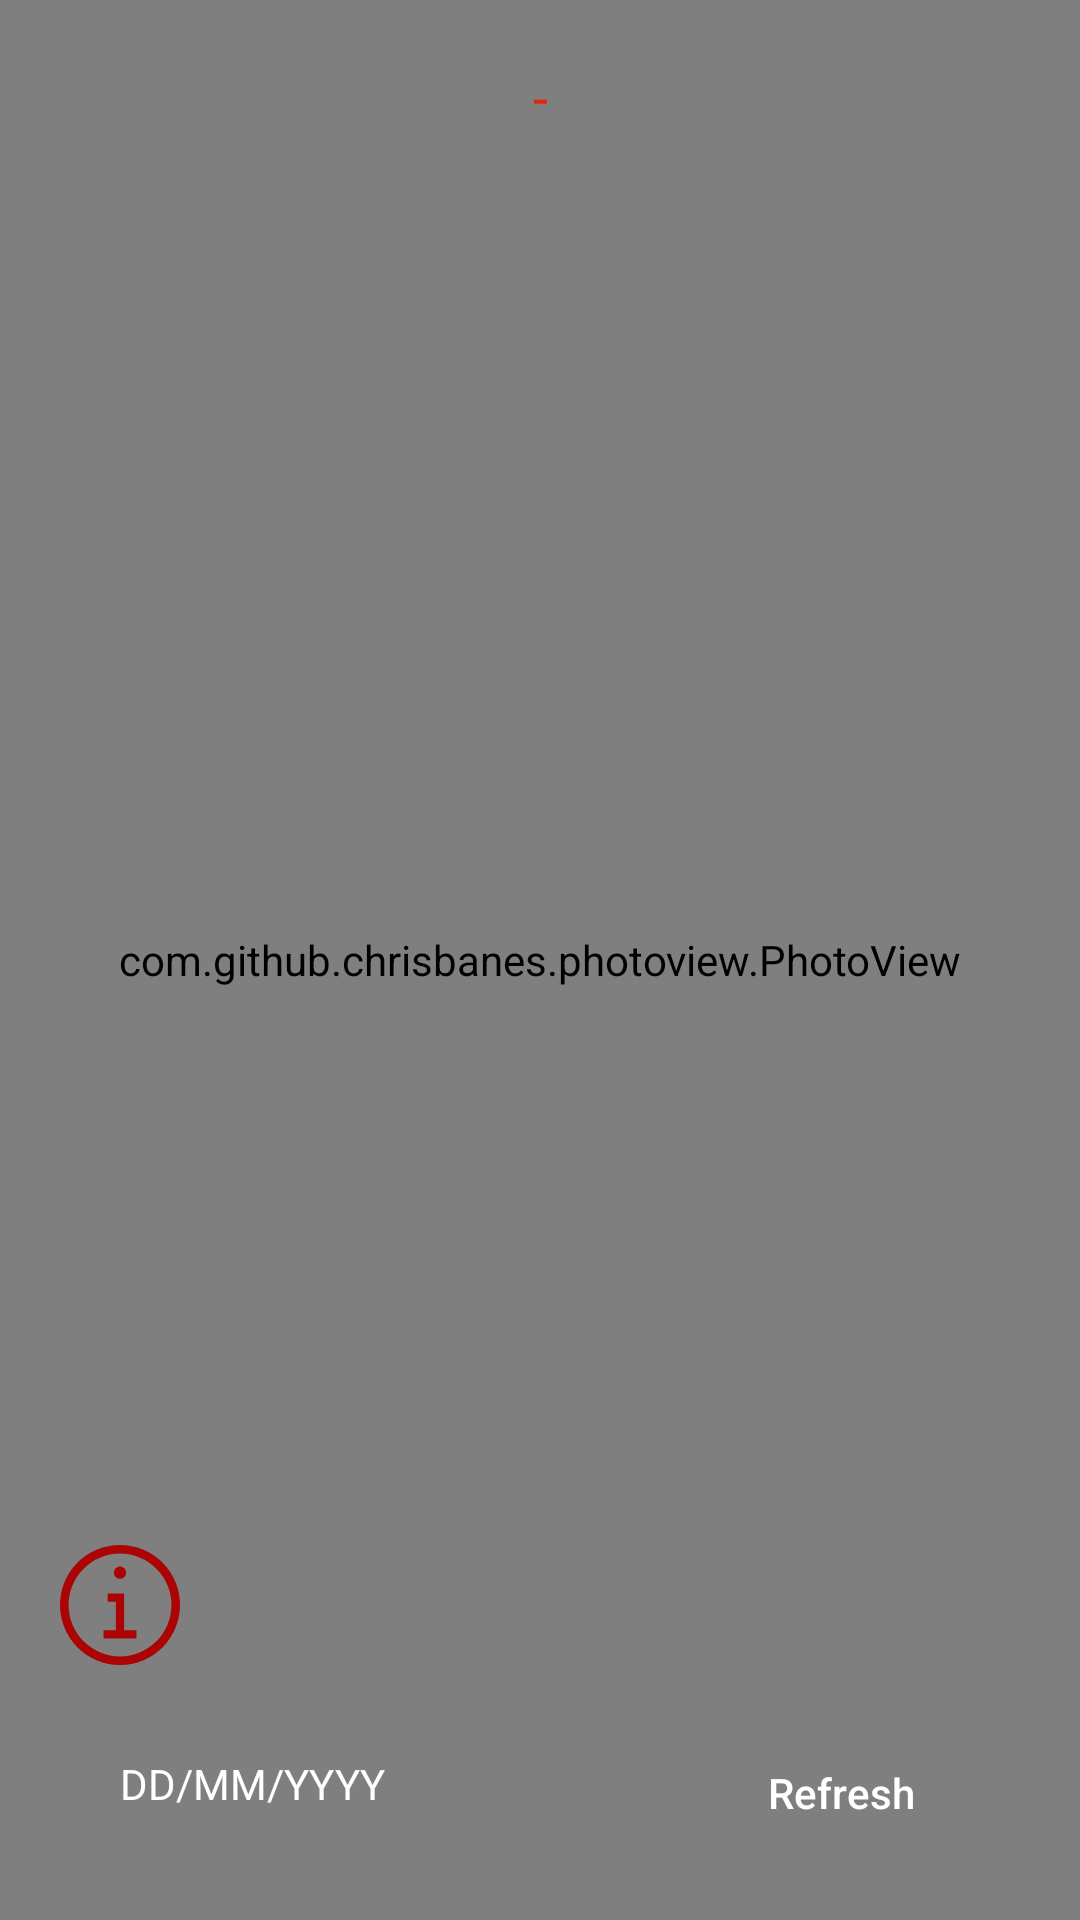

Named icons in this screenshot (1080 x 1920) and their bounding boxes, (x1, y1, x2, y2):
information: (60, 1545, 180, 1665)
